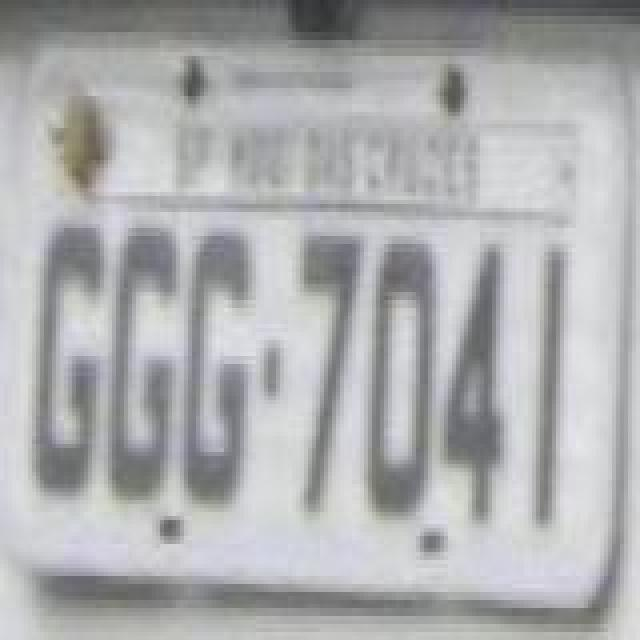1: (530, 242, 566, 534)
4: (438, 236, 506, 524)
7: (302, 224, 370, 520)
G: (106, 216, 182, 504), (30, 214, 106, 498), (180, 222, 252, 514)
O: (364, 230, 436, 522)
